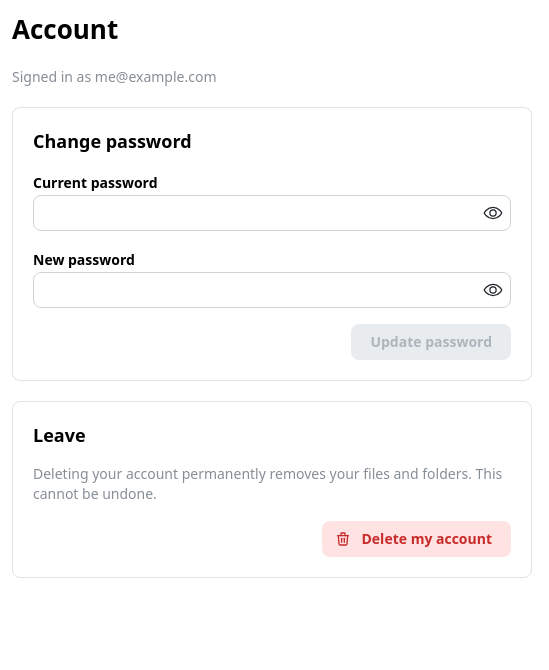
Scenario: AccountPage › changes the password and shows a confirmation
Type "oldpass" into the password field labelled "Current password" at (272, 213), box [34, 196, 510, 230]
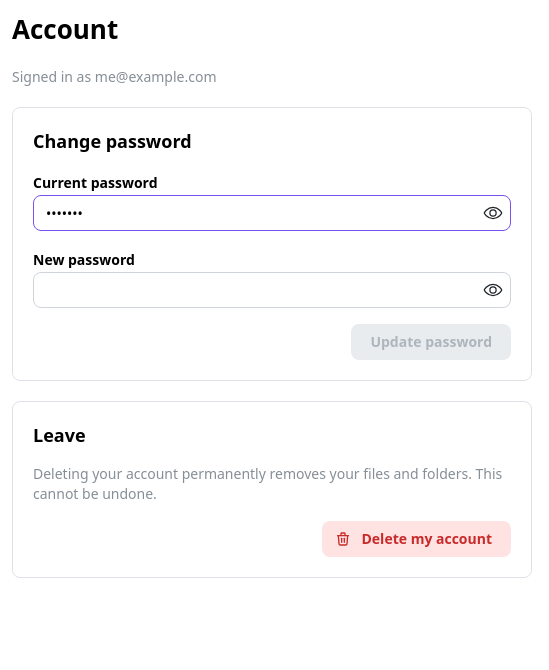
Type "newpass123" into the password field labelled "New password" at (272, 290), box [34, 273, 510, 307]
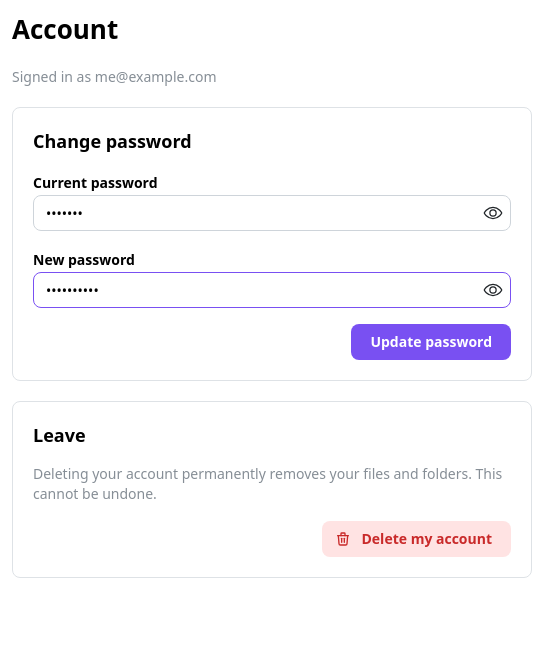
Click the button "Update password" at (431, 342), box [351, 324, 511, 360]
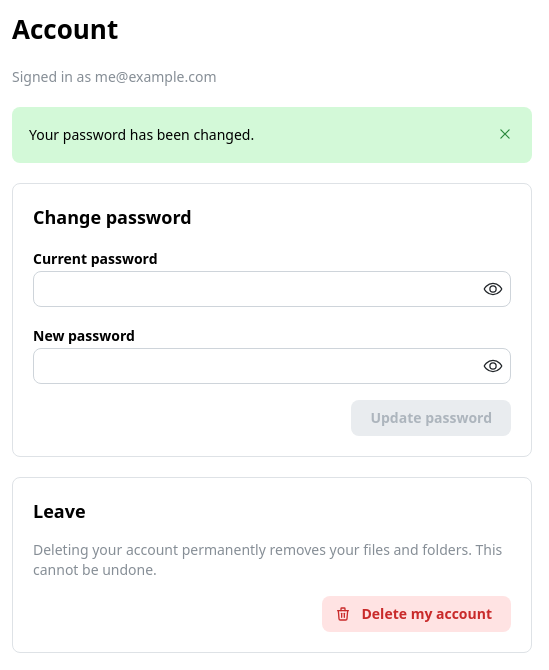
Check: the text "Your password has been changed." is shown, box [29, 125, 254, 144]
Click the button named "dismiss" at (505, 134), box [495, 124, 515, 144]
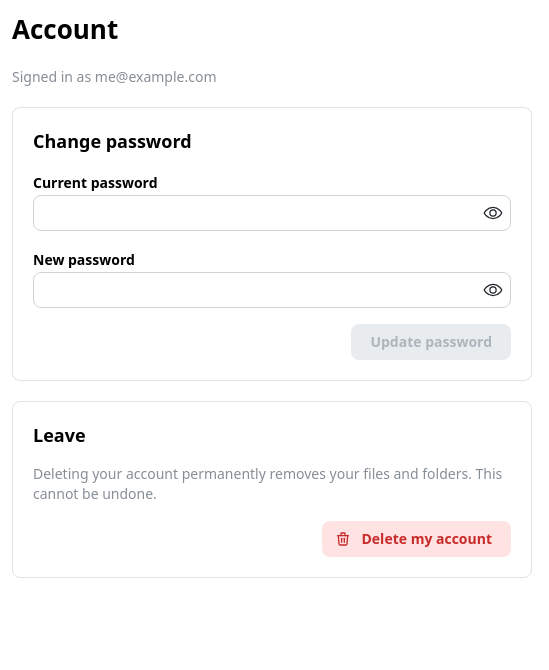
Check: the text "Your password has been changed." is gone
